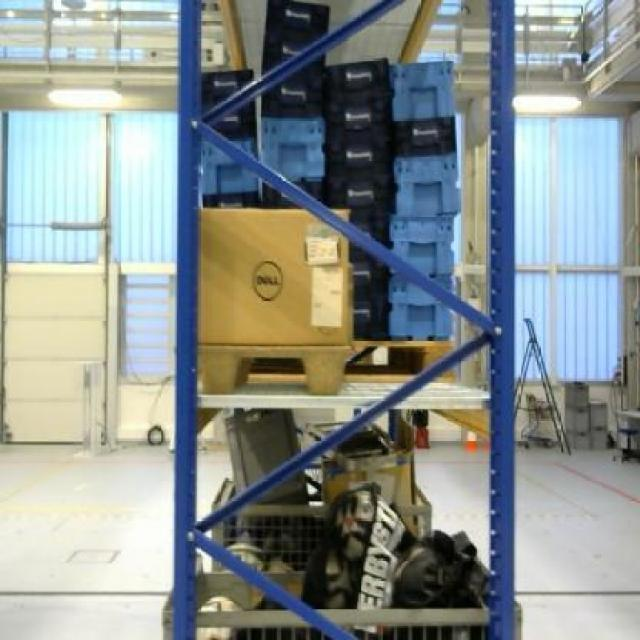box: (198, 202, 349, 347)
